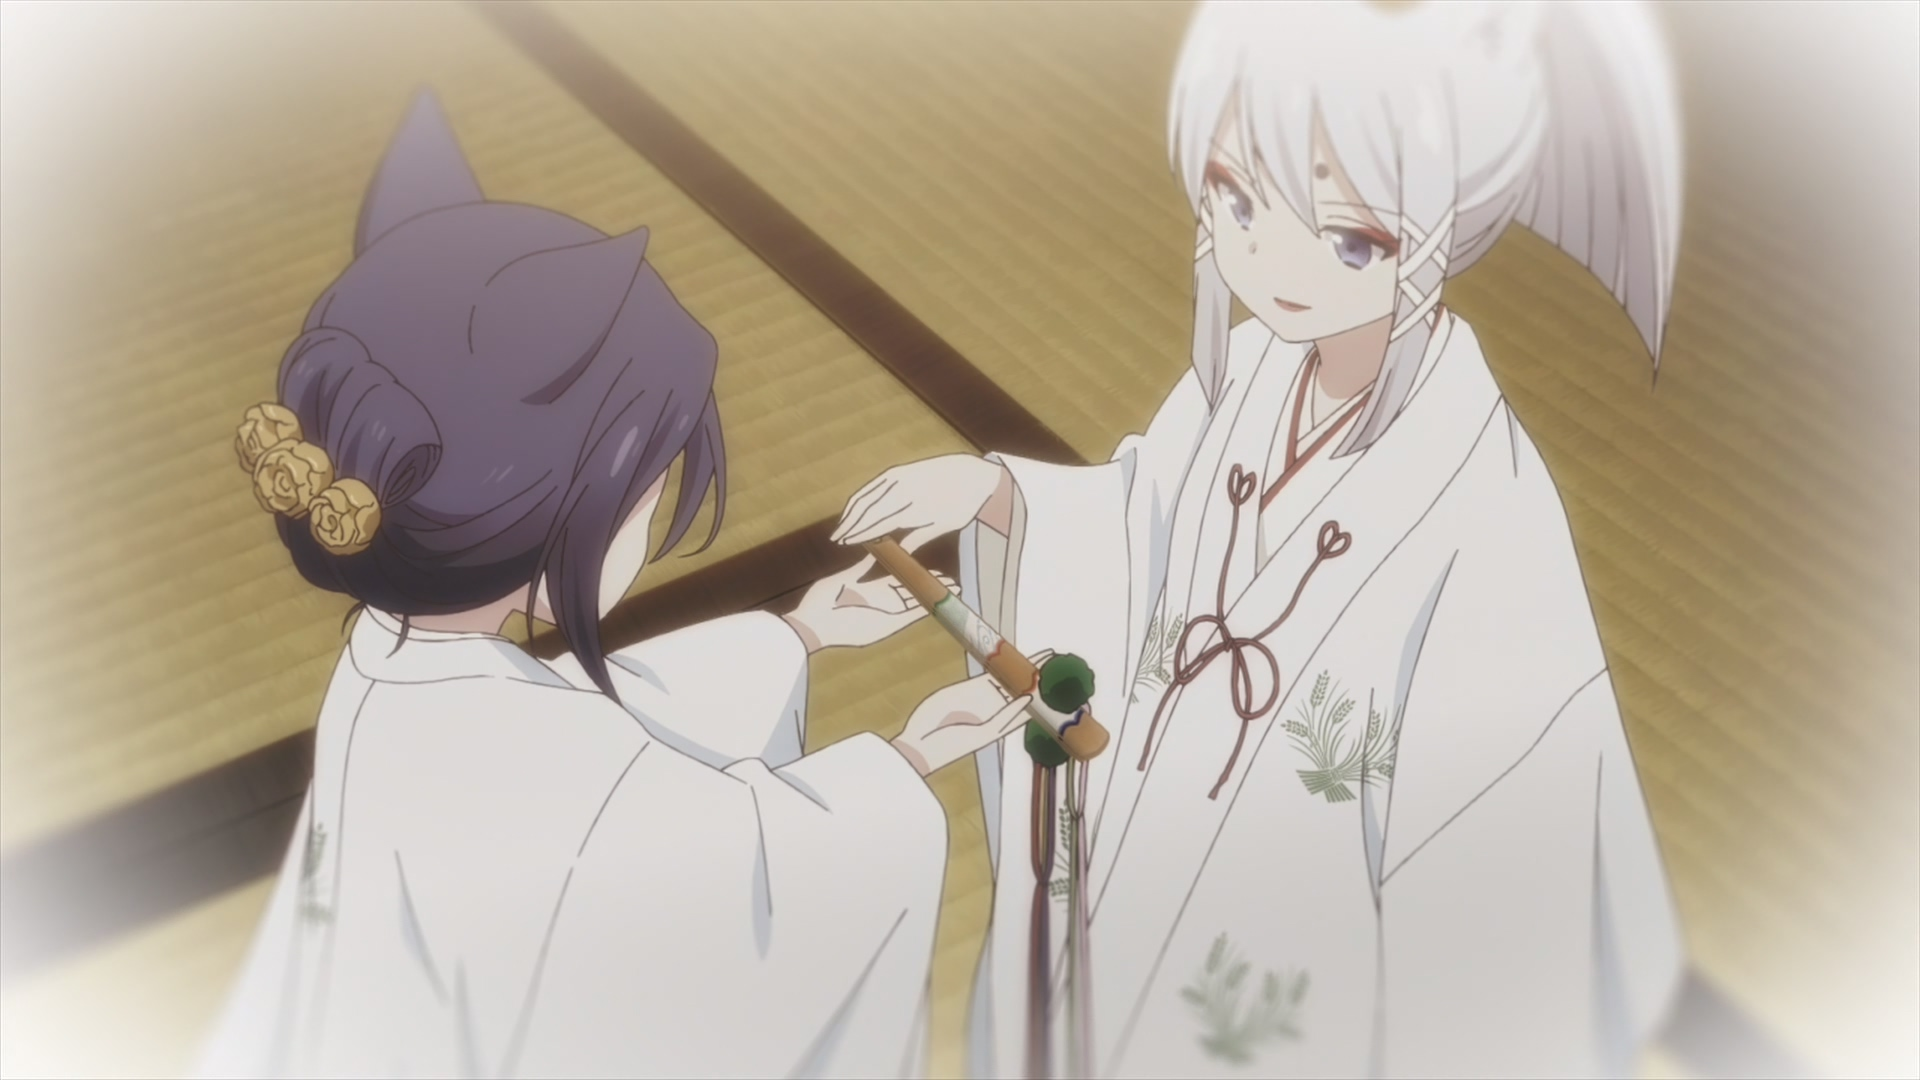柊: (825, 1, 1687, 1080)
皋: (185, 83, 1065, 1080)
